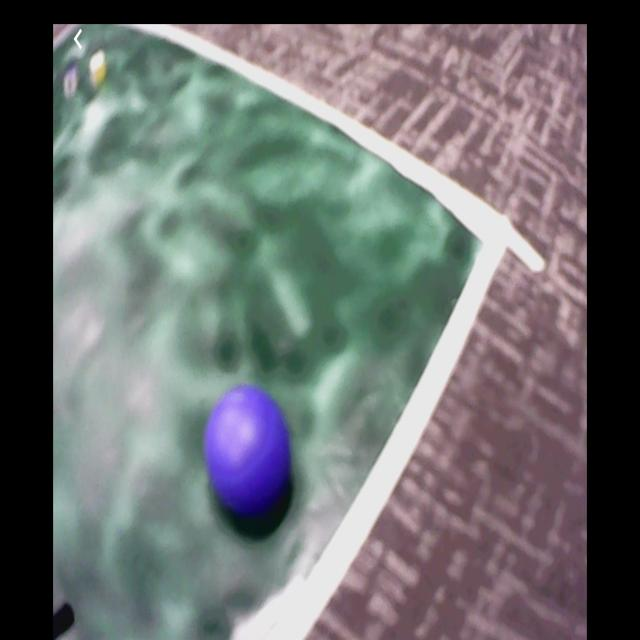ball: (207, 388, 292, 514)
